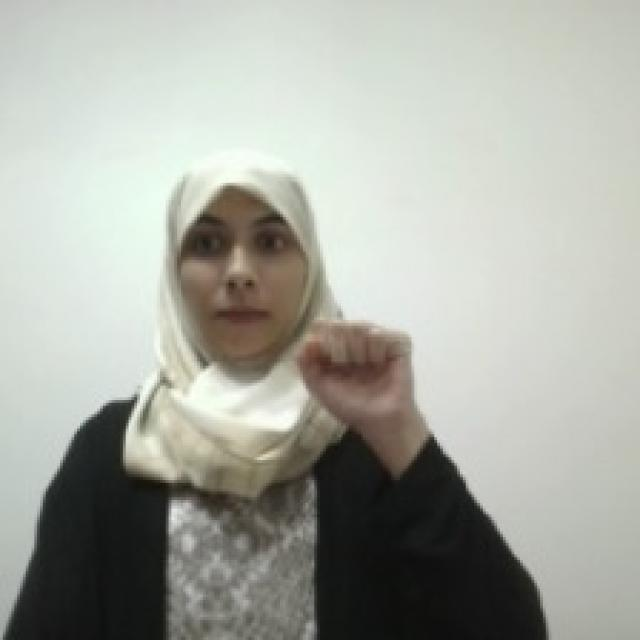yes: (289, 308, 419, 424)
